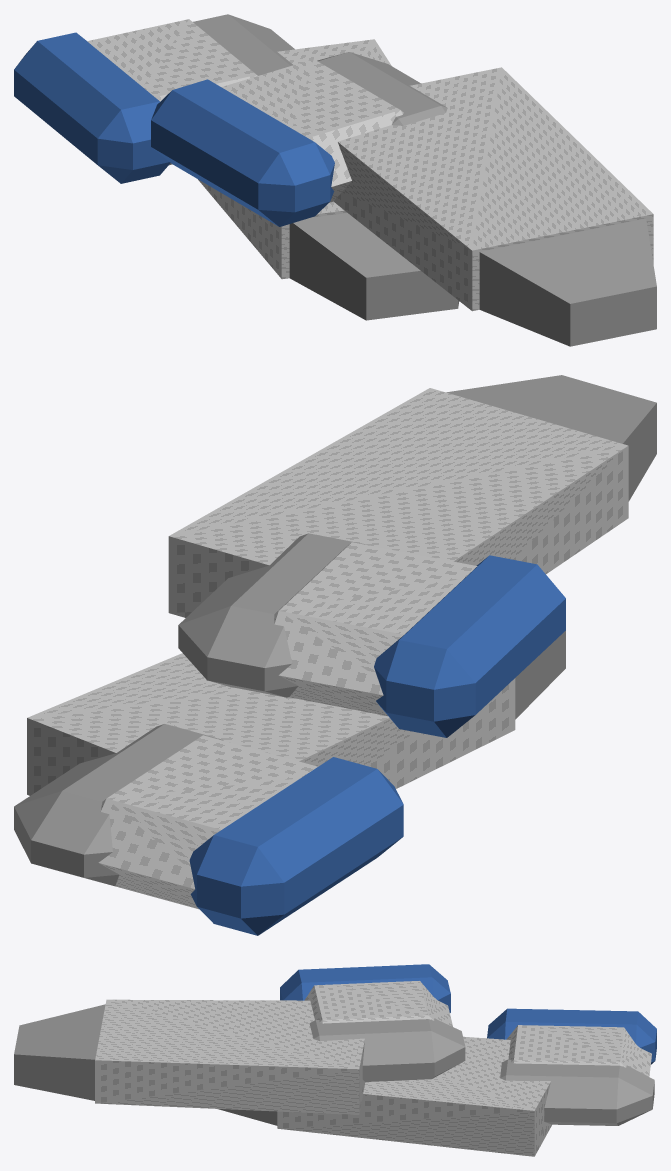
File: socks_ankle.glb
3 renders of one model, top to bottom at view 1: azimuth 30°, elevation 25°; view 2: azimuth 150°, elevation 25°; view 3: azimuth 270°, elevation 25°, orthographic. The views are drawn at different scales.
Visible parts, largest first — view 1: block_foot1, block_toe1, block_band1, block_band0, block_toe0, block_leg1, block_leg0, block_foot0, block_heel1, block_heel0; view 2: block_foot1, block_foot0, block_band0, block_band1, block_leg1, block_leg0, block_heel1, block_heel0, block_toe1, block_toe0; view 3: block_foot1, block_foot0, block_heel0, block_heel1, block_toe1, block_leg0, block_leg1, block_band0, block_band1, block_toe0.
Boxes of the visible parts, box(x1,y1,x2,y2) form: block_foot1: box(334, 67, 653, 311); block_toe1: box(479, 218, 656, 346); block_band1: box(151, 79, 334, 226); block_band0: box(14, 32, 170, 183); block_toe0: box(289, 213, 459, 320); block_leg1: box(221, 59, 403, 202); block_leg0: box(87, 19, 257, 165); block_foot0: box(198, 39, 391, 279); block_heel1: box(317, 52, 447, 125); block_heel0: box(193, 14, 294, 75); block_foot1: box(168, 388, 628, 617); block_foot0: box(27, 653, 515, 795); block_band0: box(189, 757, 403, 935); block_band1: box(374, 555, 565, 737); block_leg1: box(274, 542, 477, 716); block_leg0: box(98, 735, 317, 909); block_heel1: box(178, 533, 369, 697); block_heel0: box(14, 724, 223, 886); block_toe1: box(446, 375, 656, 501); block_toe0: box(515, 631, 565, 719); block_foot1: box(95, 999, 365, 1114); block_foot0: box(277, 1036, 551, 1156); block_heel0: box(500, 1059, 654, 1125); block_heel1: box(309, 1018, 465, 1081); block_toe1: box(14, 1004, 105, 1100); block_leg0: box(506, 1025, 651, 1076); block_leg1: box(304, 981, 452, 1026); block_band0: box(487, 1008, 656, 1064); block_band1: box(280, 964, 450, 1012); block_toe0: box(218, 1109, 277, 1125).
Size of the model in its own units: 0.0802 by 0.034 by 0.2058.
Materials: 1 (1 with a texture image).
